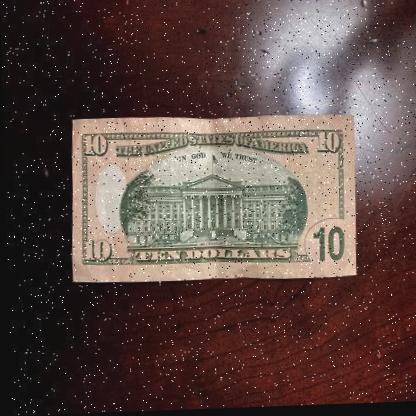ten-back: (68, 112, 357, 288)
